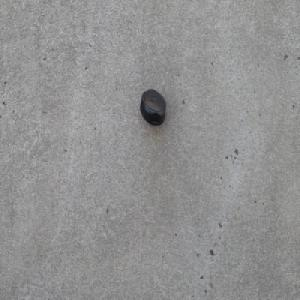FuelCap: (139, 88, 166, 128)
